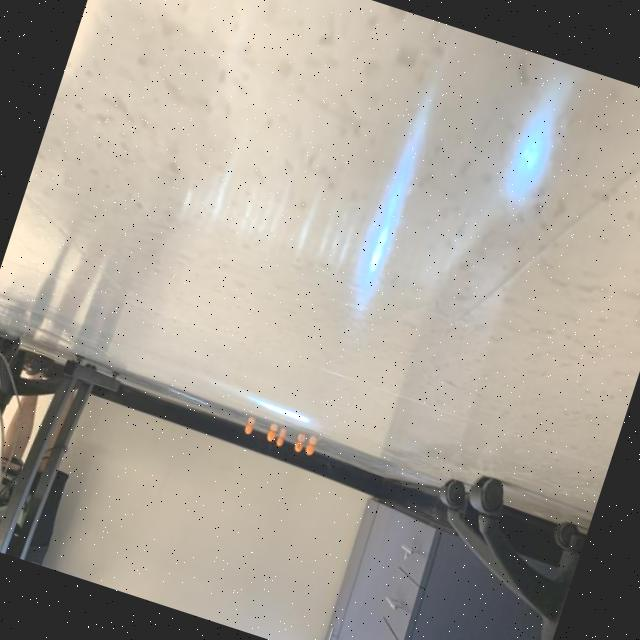ping-pong-ball: (303, 442, 317, 458), (243, 423, 254, 437), (266, 429, 276, 444), (293, 441, 304, 454), (274, 436, 285, 449)
